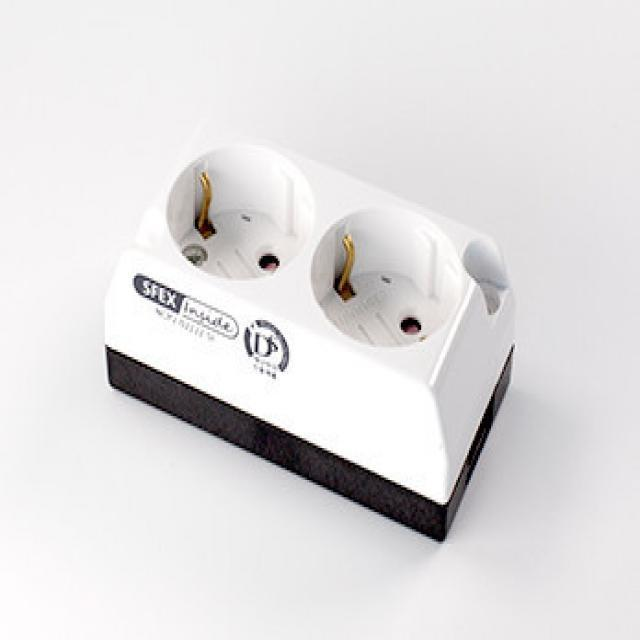typeb: (92, 78, 560, 530)
